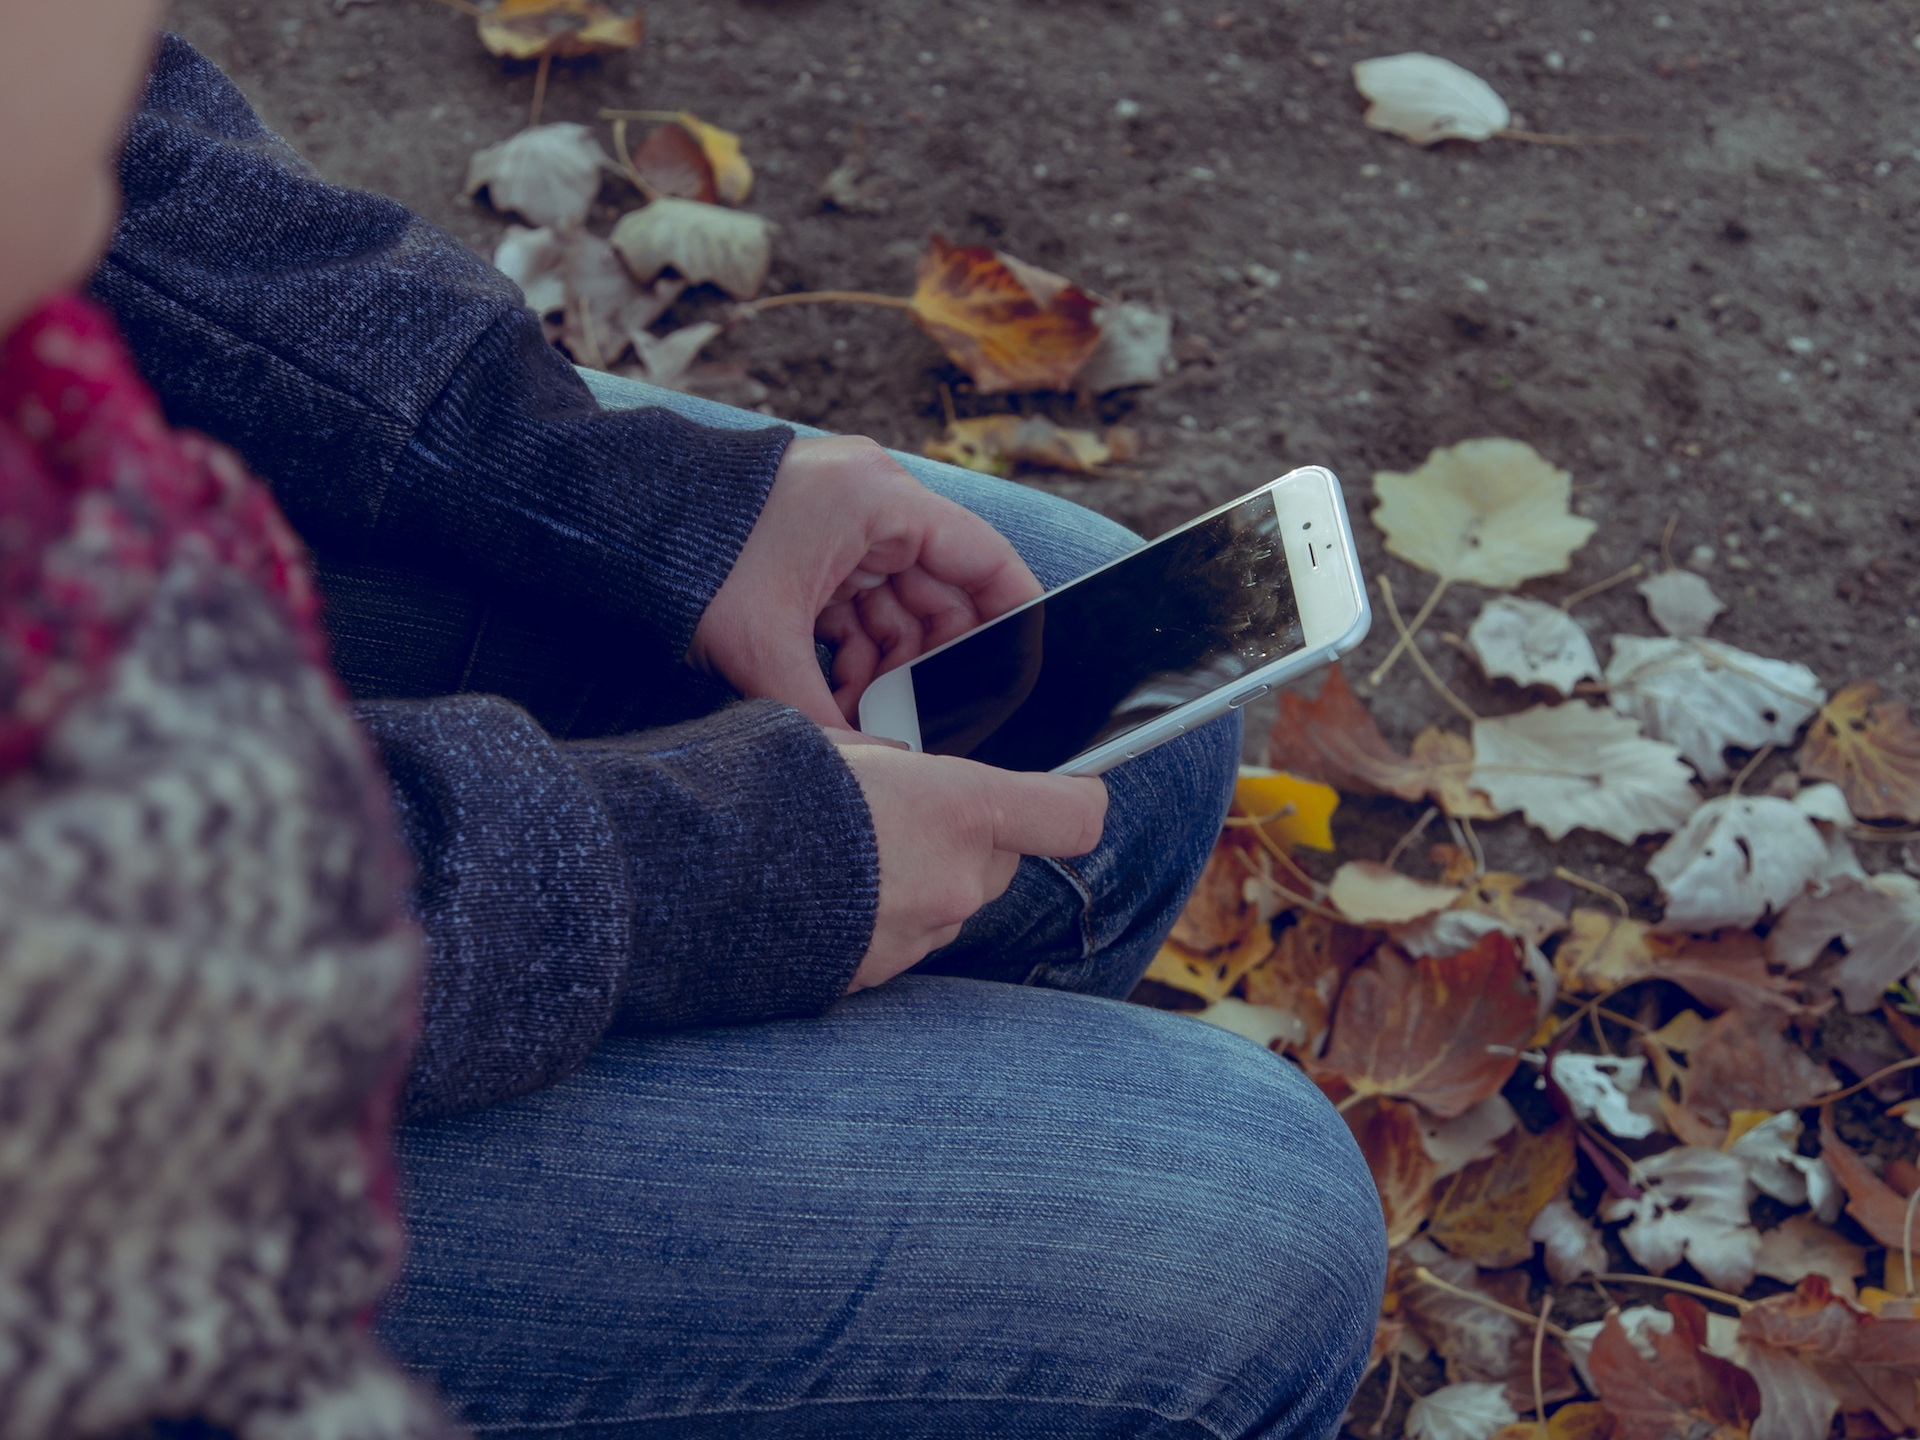smartphone: (857, 463, 1374, 781)
